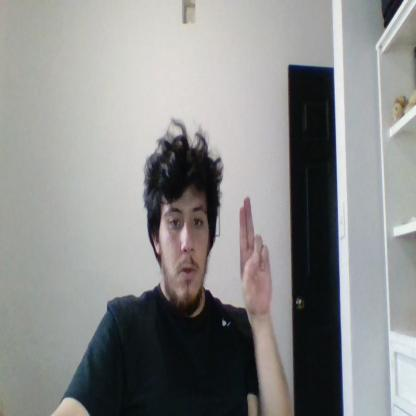U: (239, 196, 271, 312)
